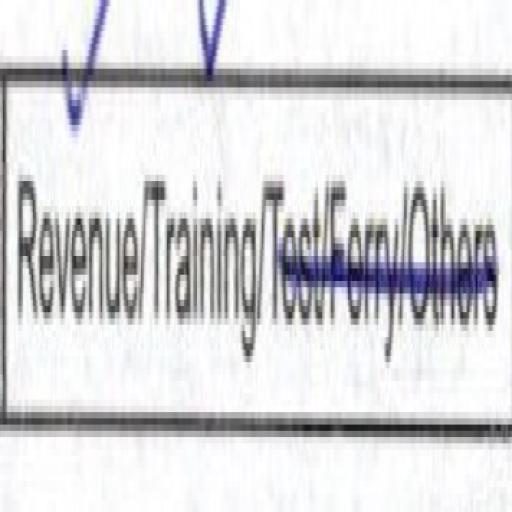check: (0, 0, 143, 472), (148, 0, 260, 472)
